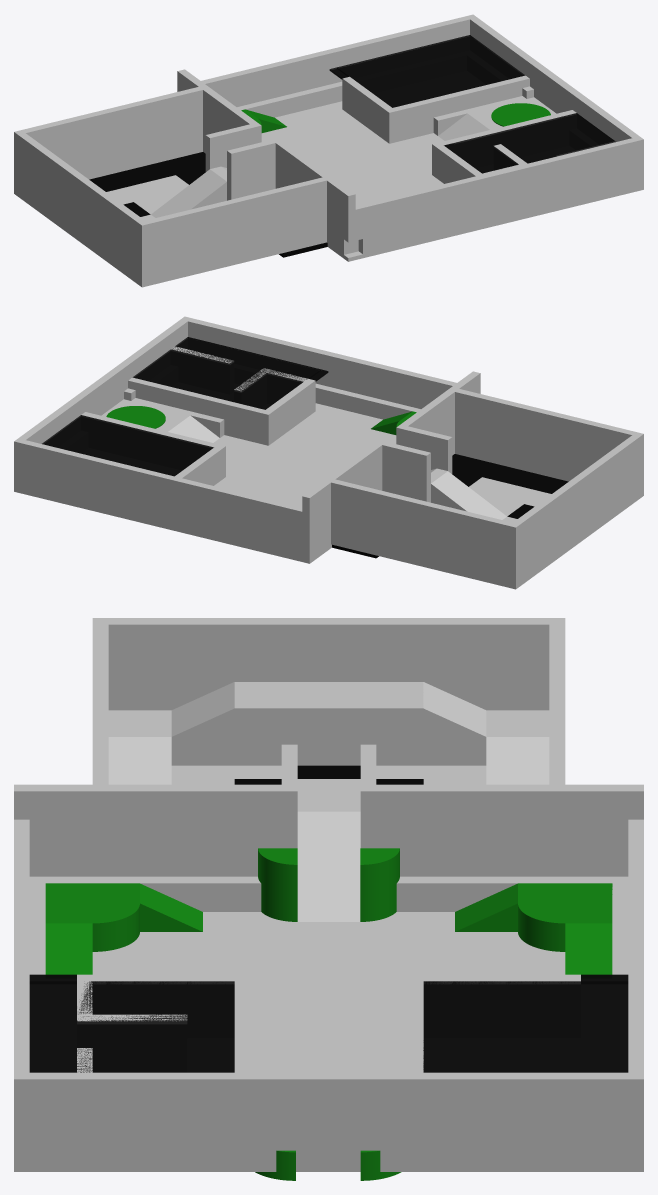
The model's file is Lvl_ThirdPerson.fbx.
3 renders of one model, top to bottom at view 1: azimuth 30°, elevation 25°; view 2: azimuth 150°, elevation 25°; view 3: azimuth 270°, elevation 25°, orthographic. The views are drawn at different scales.
Visible parts, largest first — view 1: SM_Cube35, Floor, SM_Cube34, SM_Cube19, SM_Cube36, SM_Cube42, SM_Cube18, SM_Cube43, SM_Cube17, SM_Cube5, SM_Cube30, SM_Cube31 (+16 smaller); view 2: SM_Cube34, Floor, SM_Cube35, SM_Cube18, SM_Cube36, SM_Cube43, SM_Cube19, SM_Cube42, SM_Cube17, SM_Cube4, SM_Cube20, SM_Cube32 (+17 smaller); view 3: Floor, SM_Cube17, SM_Cube36, SM_Cube30, SM_Cube20, SM_Cube42, SM_Cube43, SM_Cube41, SM_Cube2, SM_Ramp10, SM_Cube8, SM_Cube3 (+40 smaller).
Part boxes in pixels (<box>): SM_Cube35: <box>137,177,326,287</box>; Floor: <box>261,101,643,261</box>; SM_Cube34: <box>14,87,202,196</box>; SM_Cube19: <box>355,138,636,240</box>; SM_Cube36: <box>18,133,144,283</box>; SM_Cube42: <box>337,35,525,107</box>; SM_Cube18: <box>201,16,469,106</box>; SM_Cube43: <box>444,113,615,173</box>; SM_Cube17: <box>466,14,643,171</box>; SM_Cube5: <box>358,174,629,254</box>; SM_Cube30: <box>272,138,355,242</box>; SM_Cube31: <box>227,138,282,199</box>; SM_Cube34: <box>331,479,520,589</box>; Floor: <box>14,403,396,563</box>; SM_Cube35: <box>455,389,643,498</box>; SM_Cube18: <box>21,440,302,542</box>; SM_Cube36: <box>513,435,639,585</box>; SM_Cube43: <box>132,337,320,409</box>; SM_Cube19: <box>188,318,456,408</box>; SM_Cube42: <box>42,415,213,476</box>; SM_Cube17: <box>14,316,191,473</box>; SM_Cube4: <box>28,476,294,556</box>; SM_Cube20: <box>302,440,385,544</box>; SM_Cube32: <box>375,440,430,501</box>; Floor: <box>14,912,643,1171</box>; SM_Cube17: <box>14,1072,643,1136</box>; SM_Cube36: <box>108,618,549,710</box>; SM_Cube30: <box>14,784,297,876</box>; SM_Cube20: <box>360,784,643,876</box>; SM_Cube42: <box>423,981,628,1072</box>; SM_Cube43: <box>29,981,234,1072</box>; SM_Cube41: <box>234,682,423,765</box>; SM_Cube2: <box>14,1136,643,1164</box>; SM_Ramp10: <box>297,811,360,921</box>; SM_Cube8: <box>29,876,261,911</box>; SM_Cube3: <box>396,876,628,911</box>.
Size of what is drawn, in the model's own units: 6525 by 4000 by 900.
